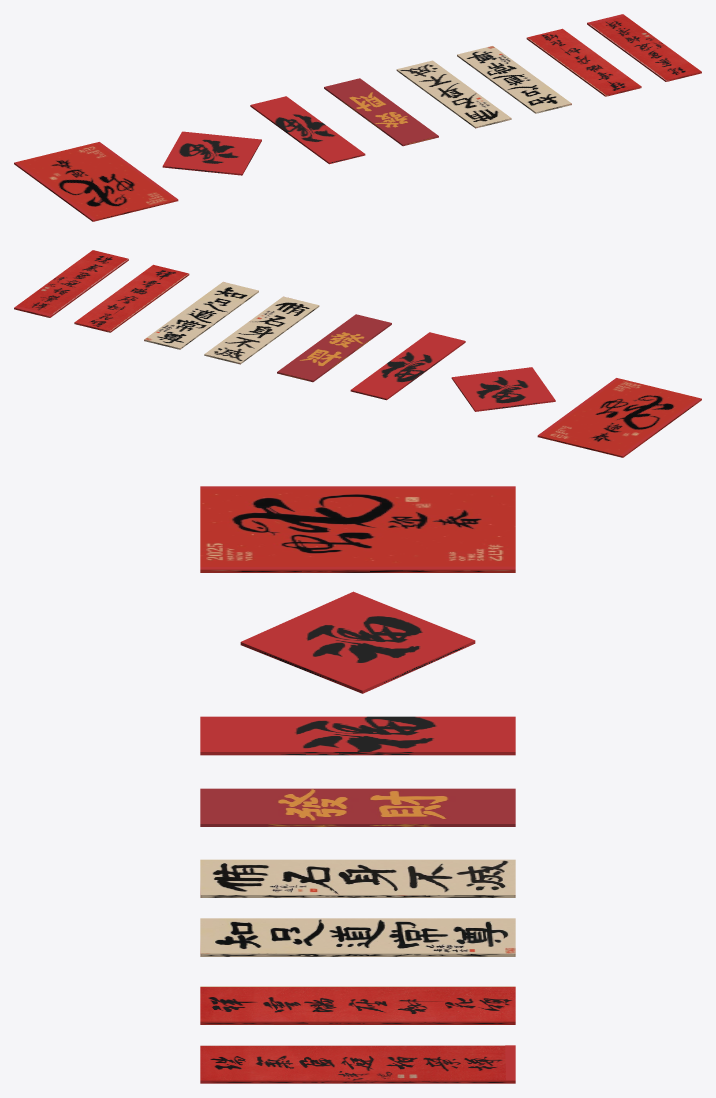
Rendered from cdeco.fbx.
The picture shows the model from 3 angles, top to bottom: view 1: azimuth 30°, elevation 25°; view 2: azimuth 150°, elevation 25°; view 3: azimuth 270°, elevation 25°; orthographic projection. The views are drawn at different scales.
Parts seen in each view (by area): view 1: pCube9, pCube6, pCube1, pCube5, pCube8, pCube4, pCube2, pCube3; view 2: pCube9, pCube6, pCube1, pCube5, pCube8, pCube4, pCube2, pCube3; view 3: pCube9, pCube8, pCube6, pCube1, pCube2, pCube3, pCube4, pCube5.
Boxes of the visible parts, box(x1,y1,x2,y2) form: pCube9: box(14, 142, 178, 221); pCube6: box(162, 131, 261, 175); pCube1: box(526, 28, 641, 96); pCube5: box(396, 60, 511, 128); pCube8: box(250, 96, 365, 164); pCube4: box(324, 78, 438, 146); pCube2: box(587, 14, 701, 81); pCube3: box(457, 46, 571, 113); pCube9: box(537, 378, 701, 457); pCube6: box(451, 367, 555, 411); pCube1: box(74, 264, 189, 332); pCube5: box(204, 296, 319, 364); pCube8: box(350, 332, 465, 400); pCube4: box(277, 314, 391, 382); pCube2: box(14, 250, 128, 317); pCube3: box(144, 282, 258, 349); pCube9: box(200, 486, 515, 572); pCube8: box(200, 716, 515, 755); pCube6: box(240, 591, 475, 693); pCube1: box(200, 986, 515, 1024); pCube2: box(200, 1045, 515, 1083); pCube3: box(200, 918, 515, 956); pCube4: box(200, 788, 515, 826); pCube5: box(200, 859, 515, 897).
Size of the model in its own units: 760 by 1.87 by 171.
